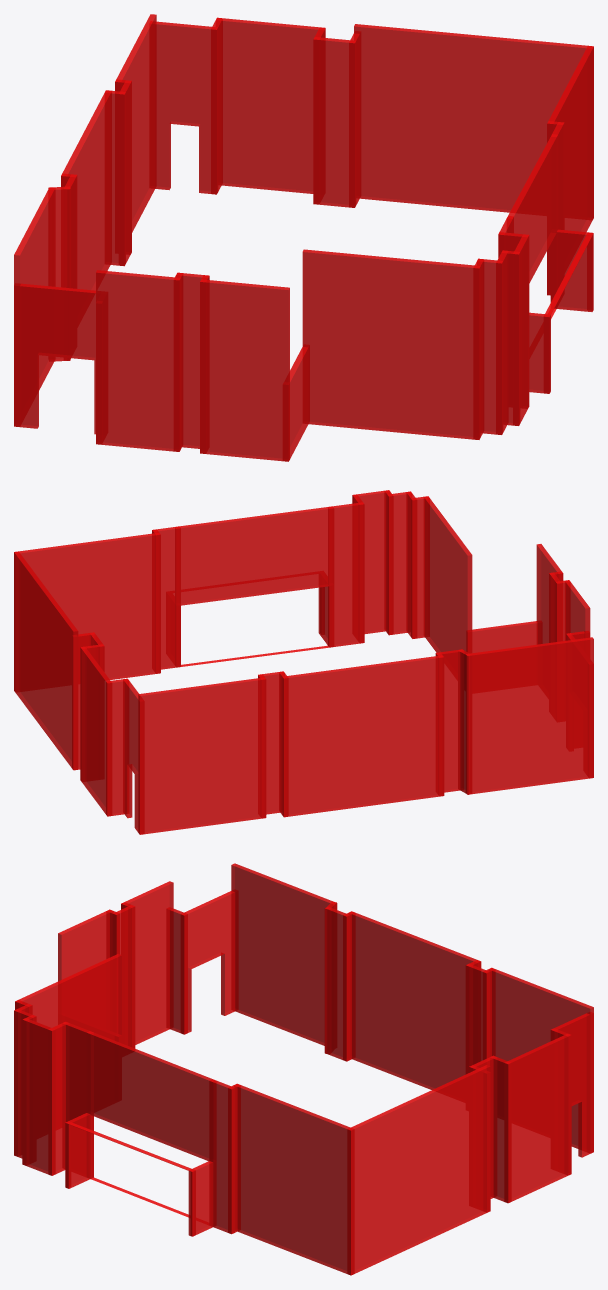
The model's file is StageRoom.obj.
The picture shows the model from 3 angles, top to bottom: view 1: azimuth 30°, elevation 25°; view 2: azimuth 150°, elevation 25°; view 3: azimuth 270°, elevation 25°; orthographic projection. The views are drawn at different scales.
Visible parts, largest first — view 1: wall_0EB0D954_D3BC_4851_860C_87D53FF06C42; view 2: wall_0EB0D954_D3BC_4851_860C_87D53FF06C42; view 3: wall_0EB0D954_D3BC_4851_860C_87D53FF06C42.
Boxes of the visible parts, x1,y1,x2,y2 form: wall_0EB0D954_D3BC_4851_860C_87D53FF06C42: [14, 14, 593, 461]; wall_0EB0D954_D3BC_4851_860C_87D53FF06C42: [14, 490, 593, 834]; wall_0EB0D954_D3BC_4851_860C_87D53FF06C42: [14, 863, 593, 1275].
Size of the model in its own units: 24.32 by 6.15 by 22.29.
